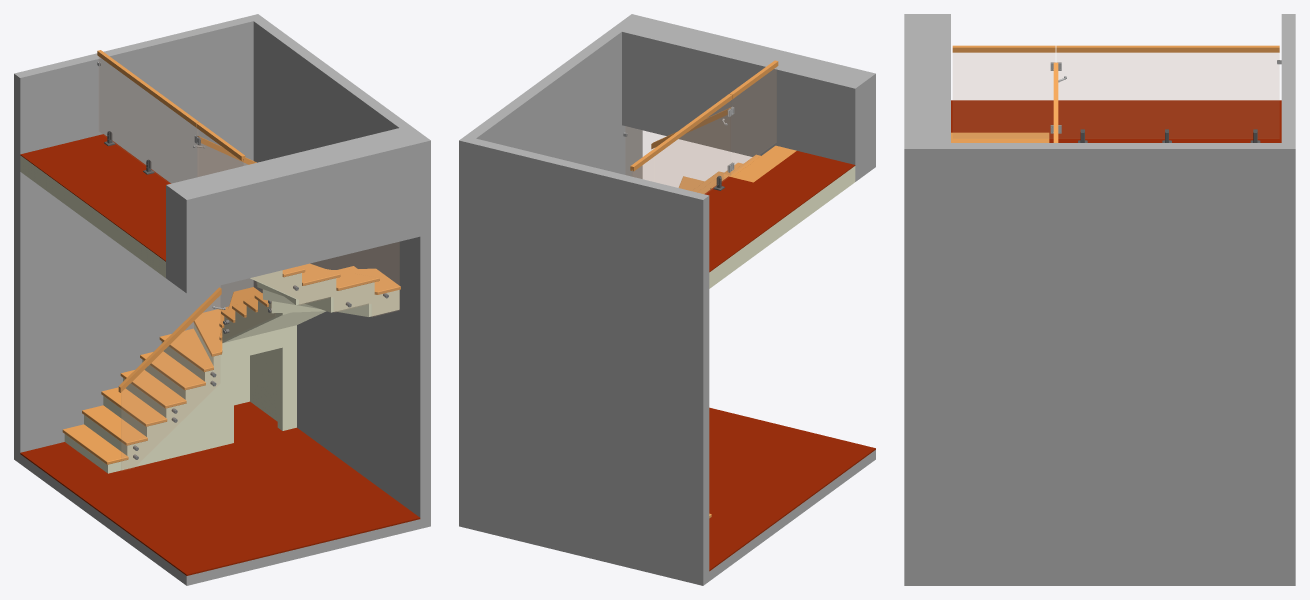
File: лестницы со стеклами_0.obj
The picture shows the model from 3 angles, left to right: view 1: azimuth 30°, elevation 25°; view 2: azimuth 150°, elevation 25°; view 3: azimuth 270°, elevation 25°; orthographic projection. The views are drawn at different scales.
Bounding box in the file's own units: 3.41 × 5.27 × 4.18.
